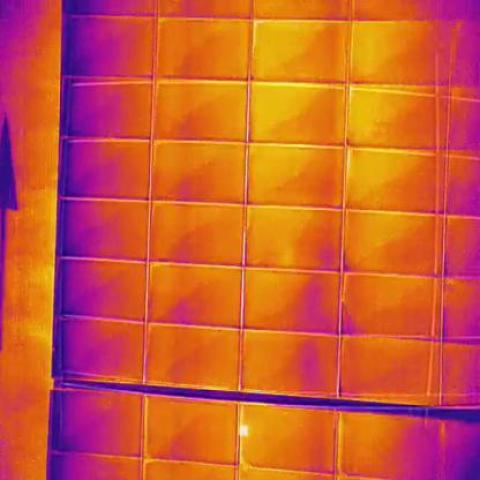fault: (237, 424, 250, 438)
